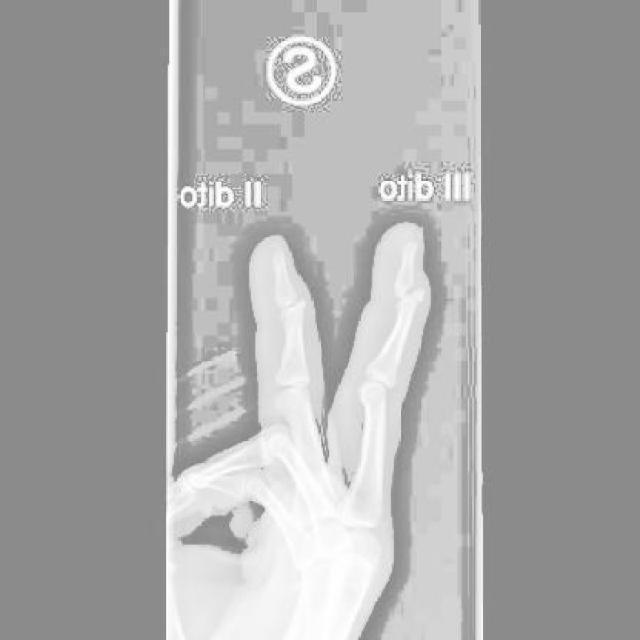Fracture: (400, 279, 429, 304), (279, 294, 308, 314)
